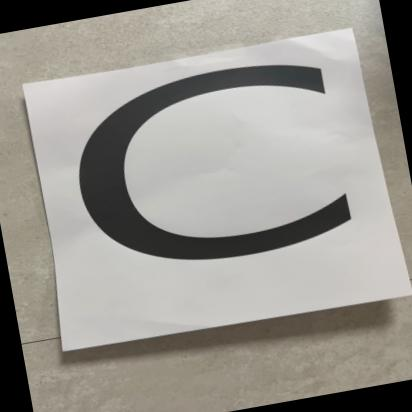seat: (17, 24, 394, 347)
